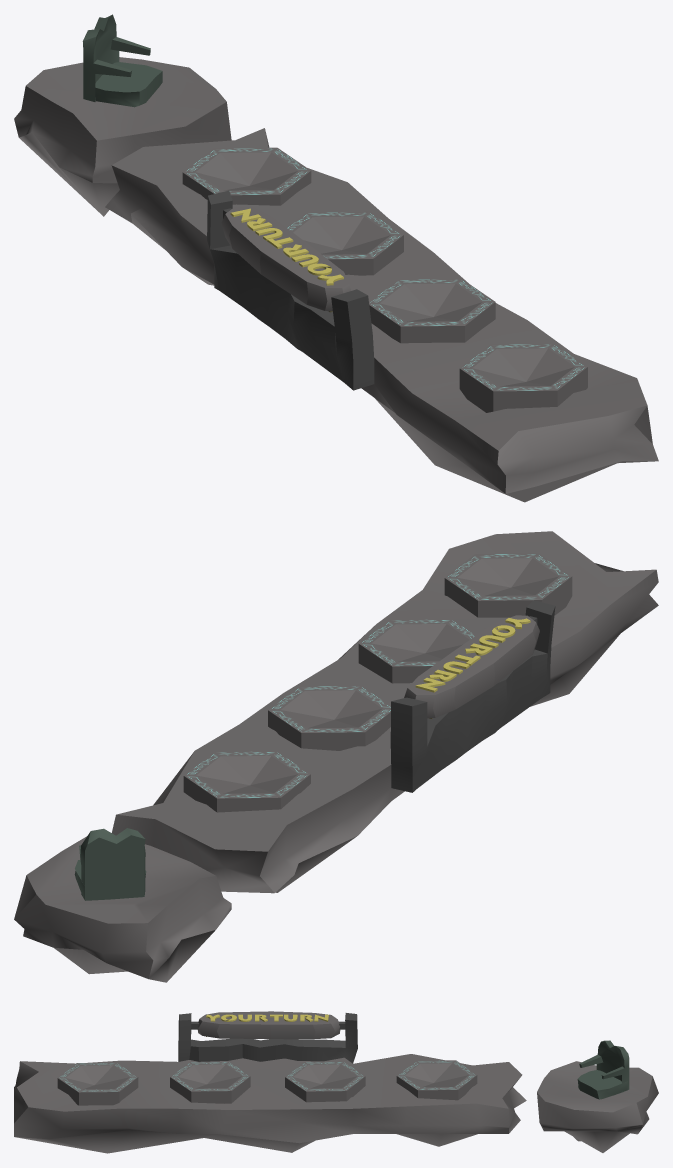
The model's file is inventory_turn.fbx.
The picture shows the model from 3 angles, top to bottom: view 1: azimuth 30°, elevation 25°; view 2: azimuth 150°, elevation 25°; view 3: azimuth 270°, elevation 25°; orthographic projection. The views are drawn at different scales.
Visible parts, largest first — view 1: polySurface5, pasted__pCube2, pasted__polySurface2, polySurface2, polySurface4, pCylinder1, polySurface3, Chair, typeMesh1; view 2: polySurface5, pasted__pCube2, pasted__polySurface2, polySurface3, polySurface4, pCylinder1, polySurface2, Chair, typeMesh1; view 3: polySurface5, pasted__pCube2, pCylinder1, pasted__polySurface2, polySurface2, polySurface3, polySurface4, Chair, typeMesh1.
Part boxes in pixels (x1,y1,x2,y2): polySurface5: [105, 128, 658, 502]; pasted__pCube2: [14, 57, 231, 216]; pasted__polySurface2: [459, 343, 587, 412]; polySurface2: [369, 278, 495, 343]; polySurface4: [182, 147, 311, 205]; pCylinder1: [221, 207, 350, 311]; polySurface3: [287, 211, 403, 275]; Chair: [82, 14, 162, 107]; typeMesh1: [230, 208, 343, 285]; polySurface5: [112, 531, 658, 893]; pasted__pCube2: [14, 836, 231, 982]; pasted__polySurface2: [444, 553, 572, 617]; polySurface3: [268, 685, 390, 750]; polySurface4: [183, 751, 310, 812]; pCylinder1: [404, 615, 539, 718]; polySurface2: [358, 619, 476, 683]; Chair: [74, 828, 146, 900]; typeMesh1: [415, 618, 530, 692]; polySurface5: [14, 1013, 526, 1153]; pasted__pCube2: [537, 1061, 658, 1152]; pCylinder1: [197, 1011, 340, 1039]; pasted__polySurface2: [57, 1062, 138, 1105]; polySurface2: [170, 1061, 250, 1103]; polySurface3: [285, 1061, 365, 1102]; polySurface4: [396, 1060, 477, 1100]; Chair: [577, 1040, 629, 1099]; typeMesh1: [206, 1014, 328, 1021].
Size of the model in its own units: 2.82 by 2.14 by 11.85.
8 materials, 2 textured.
